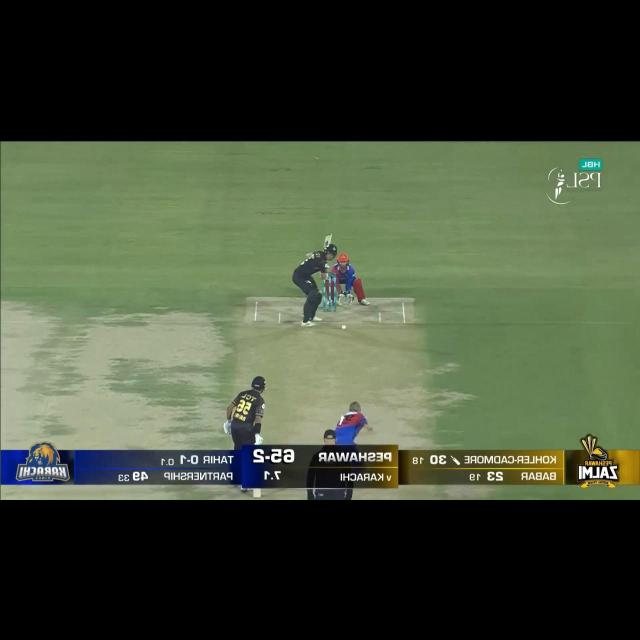bat: (322, 236, 332, 246), (253, 488, 260, 497)
toe: (252, 488, 262, 498), (324, 234, 332, 246)
